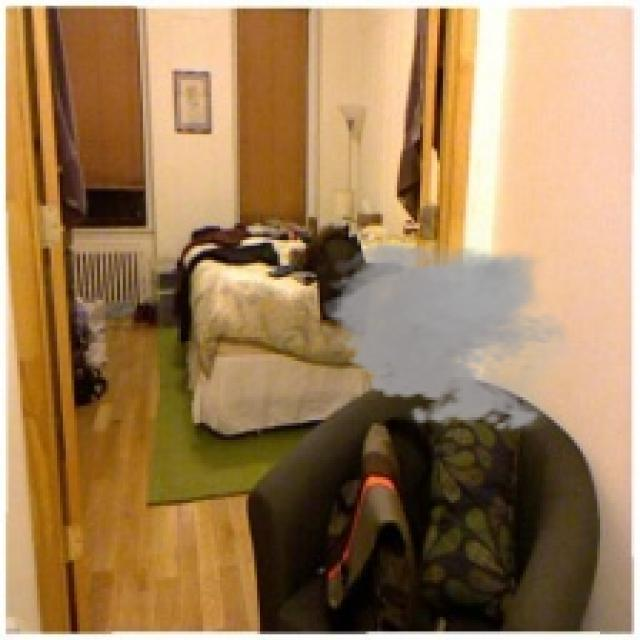Smoke: (314, 234, 583, 437)
